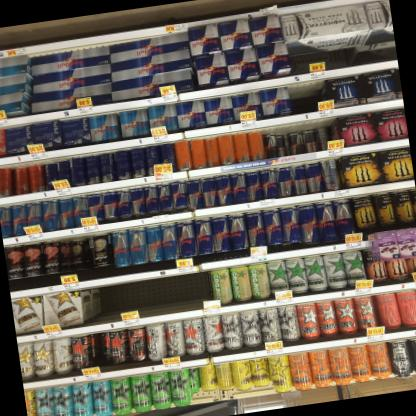empty_space: (101, 280, 142, 310), (177, 270, 209, 307), (145, 274, 175, 311), (288, 79, 318, 104)
